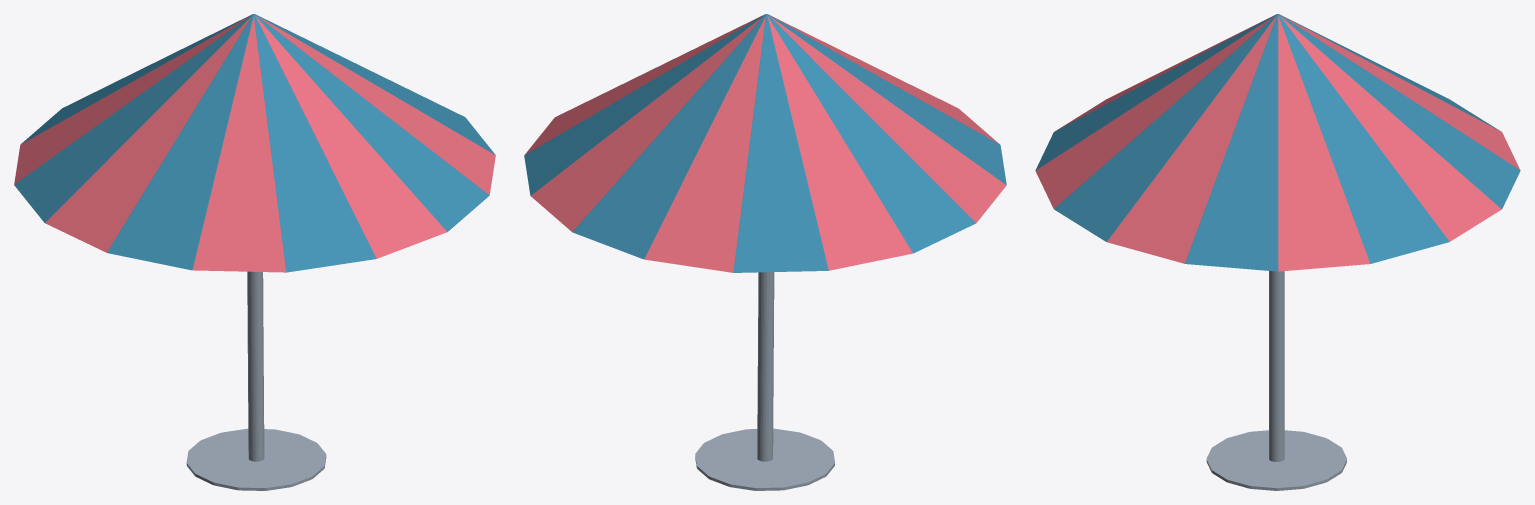
File: zont.fbx
The picture shows the model from 3 angles, left to right: view 1: azimuth 30°, elevation 25°; view 2: azimuth 150°, elevation 25°; view 3: azimuth 270°, elevation 25°; orthographic projection.
Parts seen in each view (by area): view 1: Cylinder.015; view 2: Cylinder.015; view 3: Cylinder.015.
Boxes of the visible parts, box(x1,y1,x2,y2) form: Cylinder.015: box(14, 14, 495, 490); Cylinder.015: box(524, 14, 1006, 490); Cylinder.015: box(1035, 14, 1520, 490).
Size of the model in its own units: 77.99 by 79.31 by 77.99.
